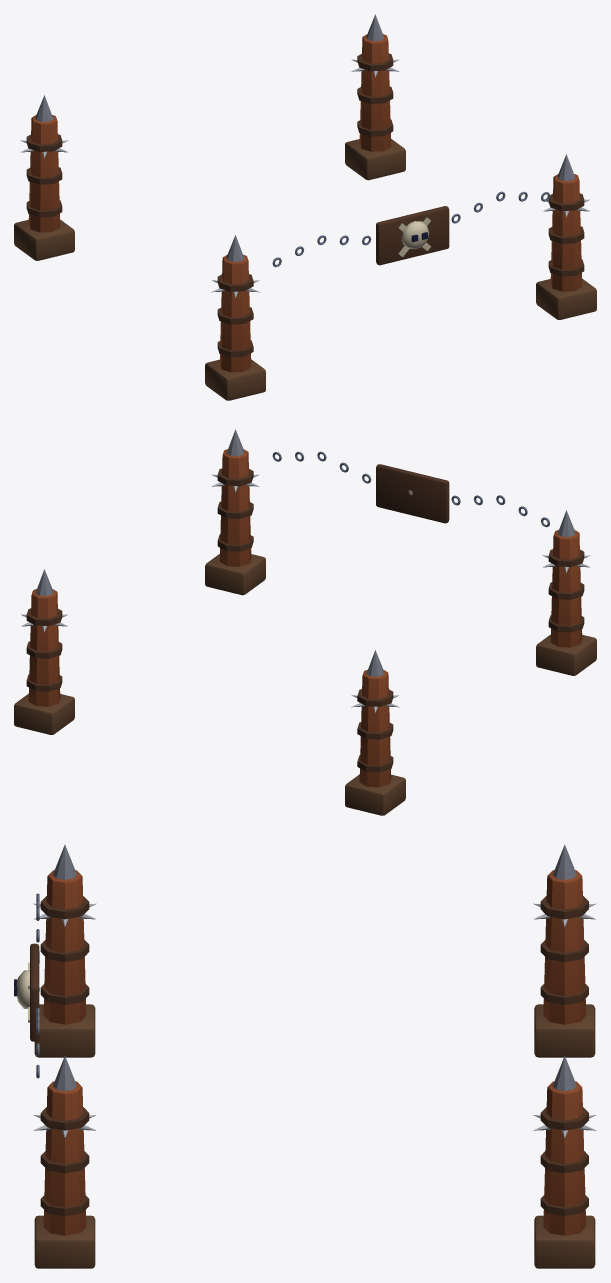
Rendered from lo_bskin_rostfestung.glb.
The picture shows the model from 3 angles, top to bottom: view 1: azimuth 30°, elevation 25°; view 2: azimuth 150°, elevation 25°; view 3: azimuth 270°, elevation 25°; orthographic projection. The views are drawn at different scales.
Parts seen in each view (by area): view 1: body; view 2: body; view 3: body.
Boxes of the visible parts, <box> form: body: <box>14,14,596,400</box>; body: <box>14,429,596,815</box>; body: <box>14,844,596,1268</box>.
Bounding box in the file's own units: 8.5 × 3.3 × 8.63.
